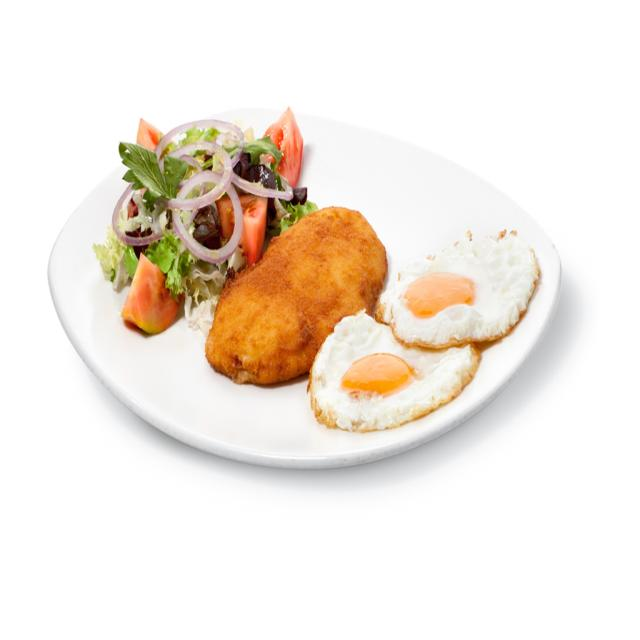Egg: (308, 304, 481, 429), (374, 225, 542, 346)
